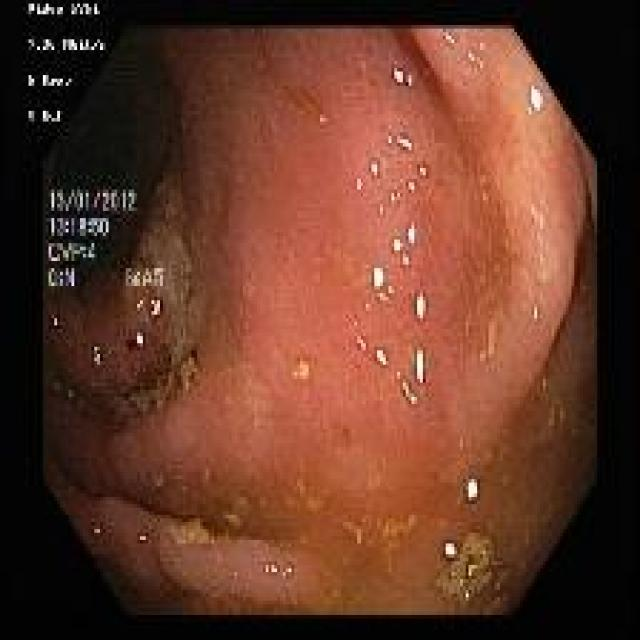ulcerative-colitis: (46, 30, 596, 614)
